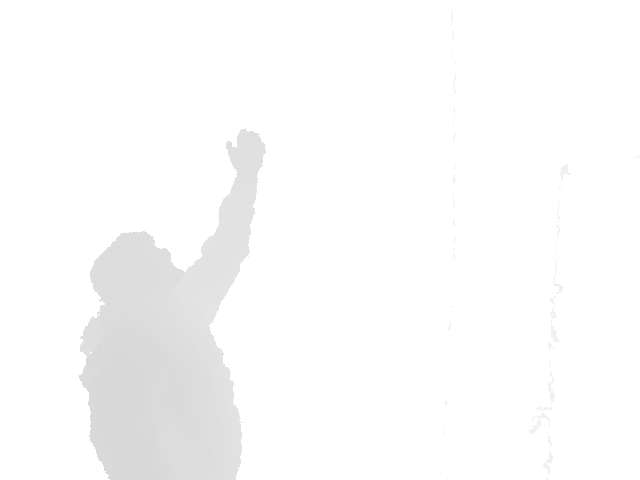hand: (224, 127, 267, 178)
head: (89, 229, 187, 309)
person: (77, 127, 267, 480)
